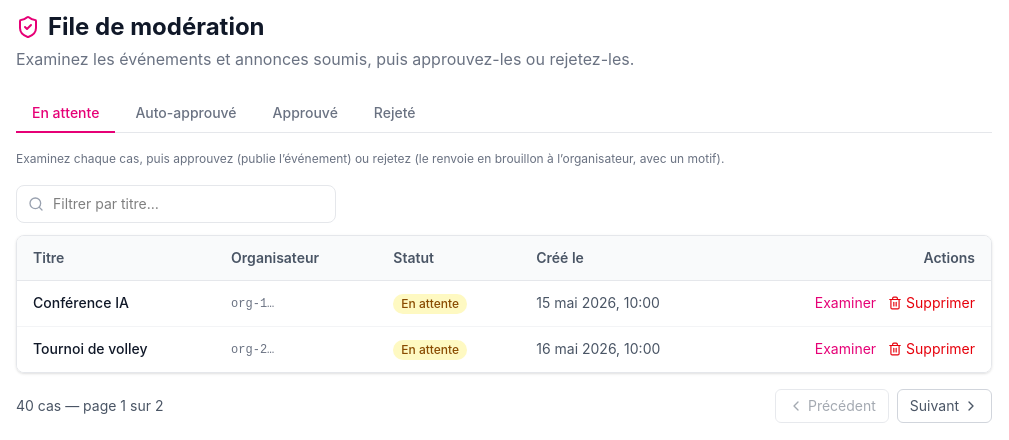
Test: AdminModerationPage › disables Suivant when on the last page
Expected: the link "Conférence IA" is shown, [33,294,129,311]
Click the button "Suivant".
click(944, 406)  # box [897,388,992,422]
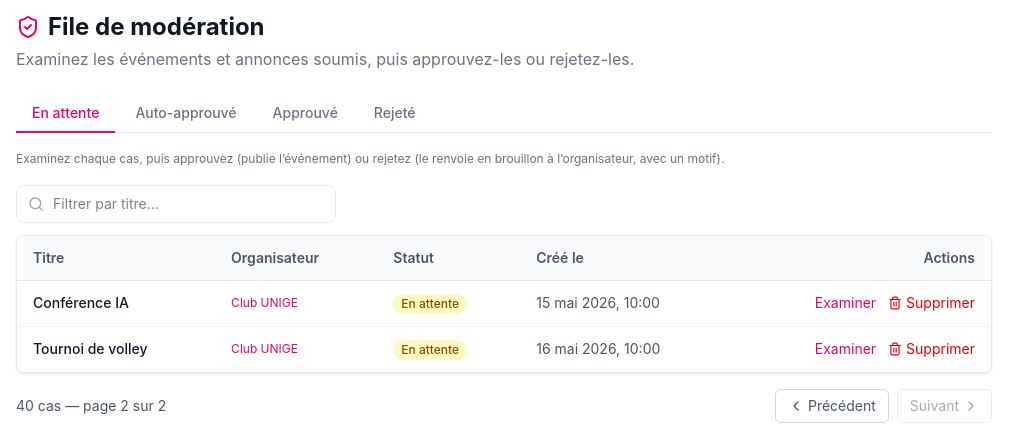
Expected: the link "Conférence IA" is shown, [33,294,129,311]
Expected: the button "Suivant" is disabled, [897,388,992,422]
